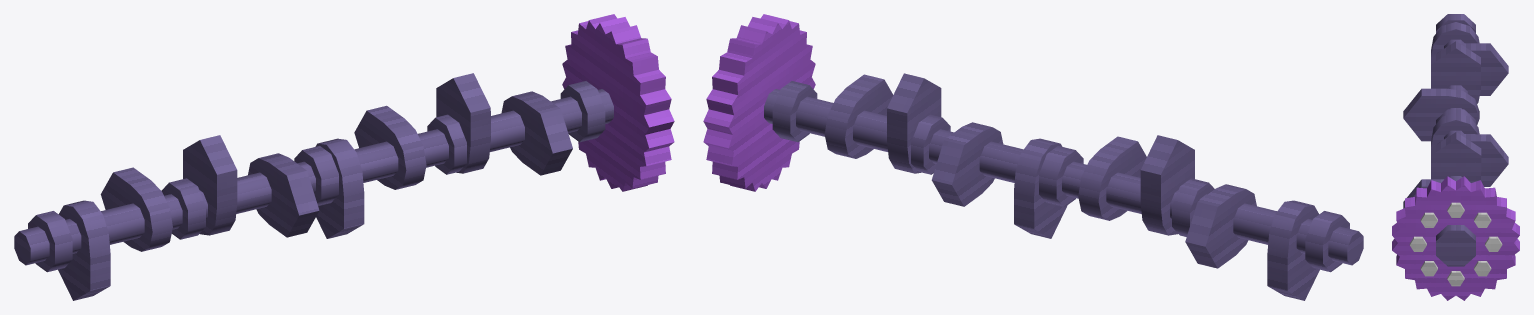
File: comando_n5.glb
The picture shows the model from 3 angles, left to right: view 1: azimuth 30°, elevation 25°; view 2: azimuth 150°, elevation 25°; view 3: azimuth 270°, elevation 25°; orthographic projection. The views are drawn at different scales.
Parts seen in each view (by area): view 1: comando_n5; view 2: comando_n5; view 3: comando_n5.
Boxes of the visible parts, box(x1,y1,x2,y2) form: comando_n5: box(14, 14, 674, 300); comando_n5: box(703, 14, 1363, 300); comando_n5: box(1392, 14, 1519, 300).
Size of the model in its own units: 0.492 by 0.119 by 0.119.
2 materials, 2 textured.
